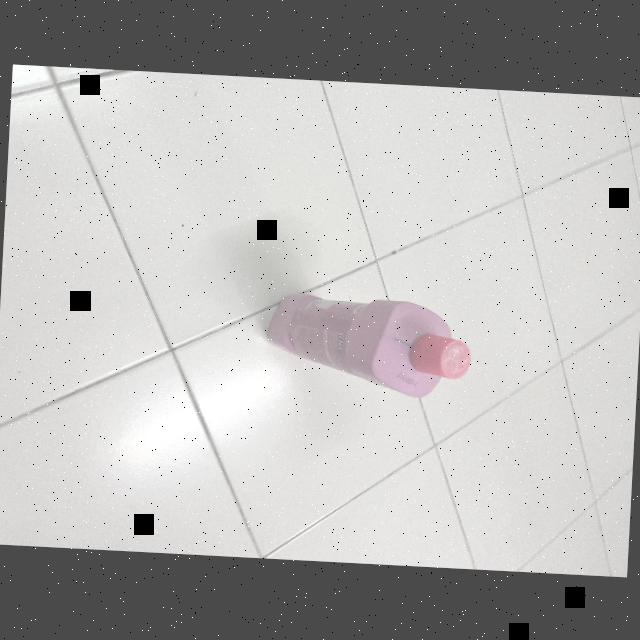chemical_plastic_bottle: (264, 288, 478, 403)
